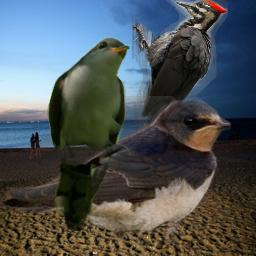Cuckoo: (47, 37, 131, 231)
Swallow: (0, 96, 231, 244)
Woodpecker: (132, 0, 228, 158)
